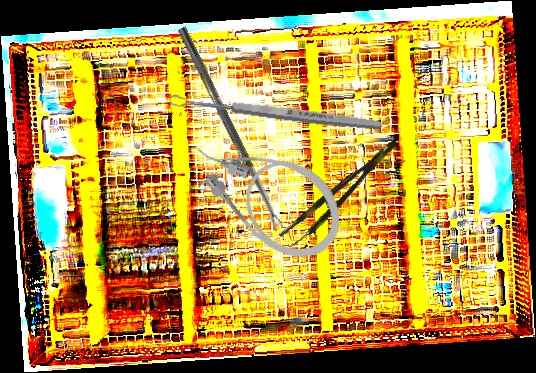Cannula: (178, 105, 360, 278)
Surgical Spoon: (176, 26, 284, 232), (168, 92, 384, 133)
Tissue Forceps: (277, 137, 407, 251)
